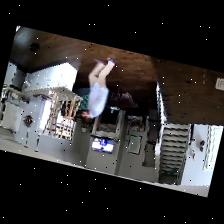person: (80, 57, 113, 122), (99, 138, 107, 150)
